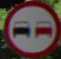No overtake: (6, 3, 55, 52)
